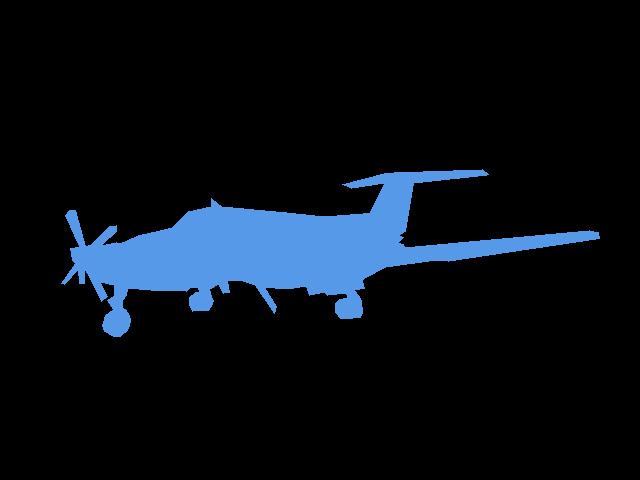Airplane: (61, 169, 600, 336)
